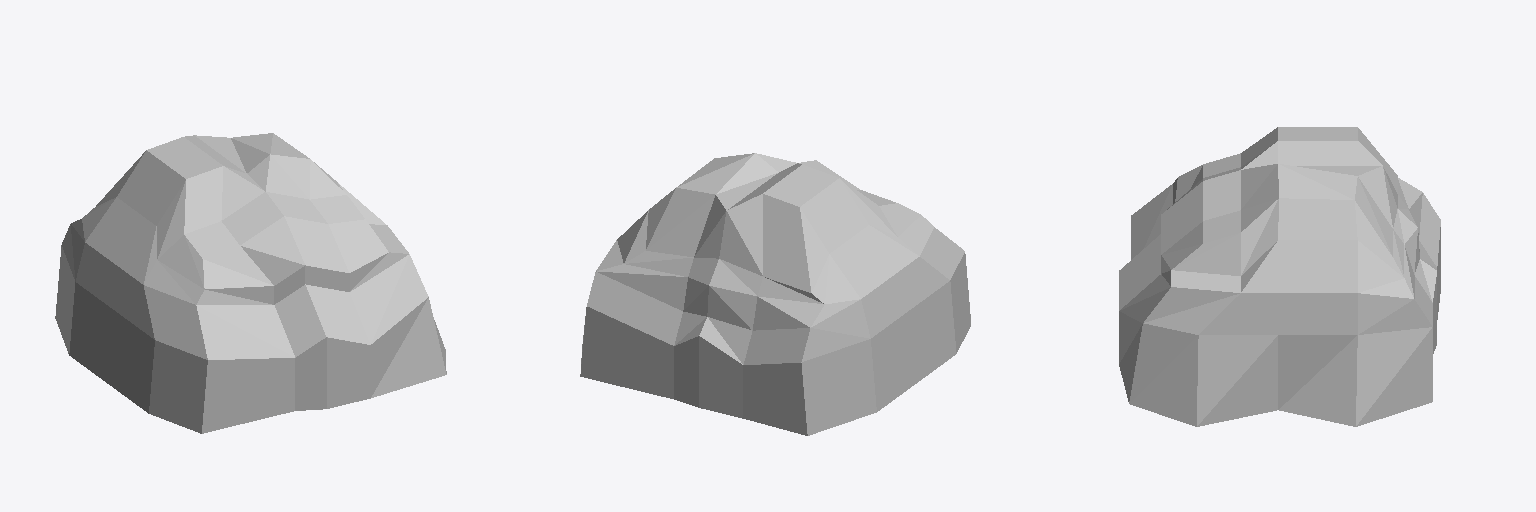
File: Rock2.obj
The picture shows the model from 3 angles: view 1: azimuth 30°, elevation 25°; view 2: azimuth 150°, elevation 25°; view 3: azimuth 270°, elevation 25°; orthographic projection.
Visible parts, largest first — view 1: Group2; view 2: Group2; view 3: Group2.
Boxes of the visible parts, <box> form: Group2: <box>55,133,446,433</box>; Group2: <box>580,153,970,435</box>; Group2: <box>1119,127,1440,426</box>.
Size of the model in its own units: 1.2 by 0.7657 by 1.13.